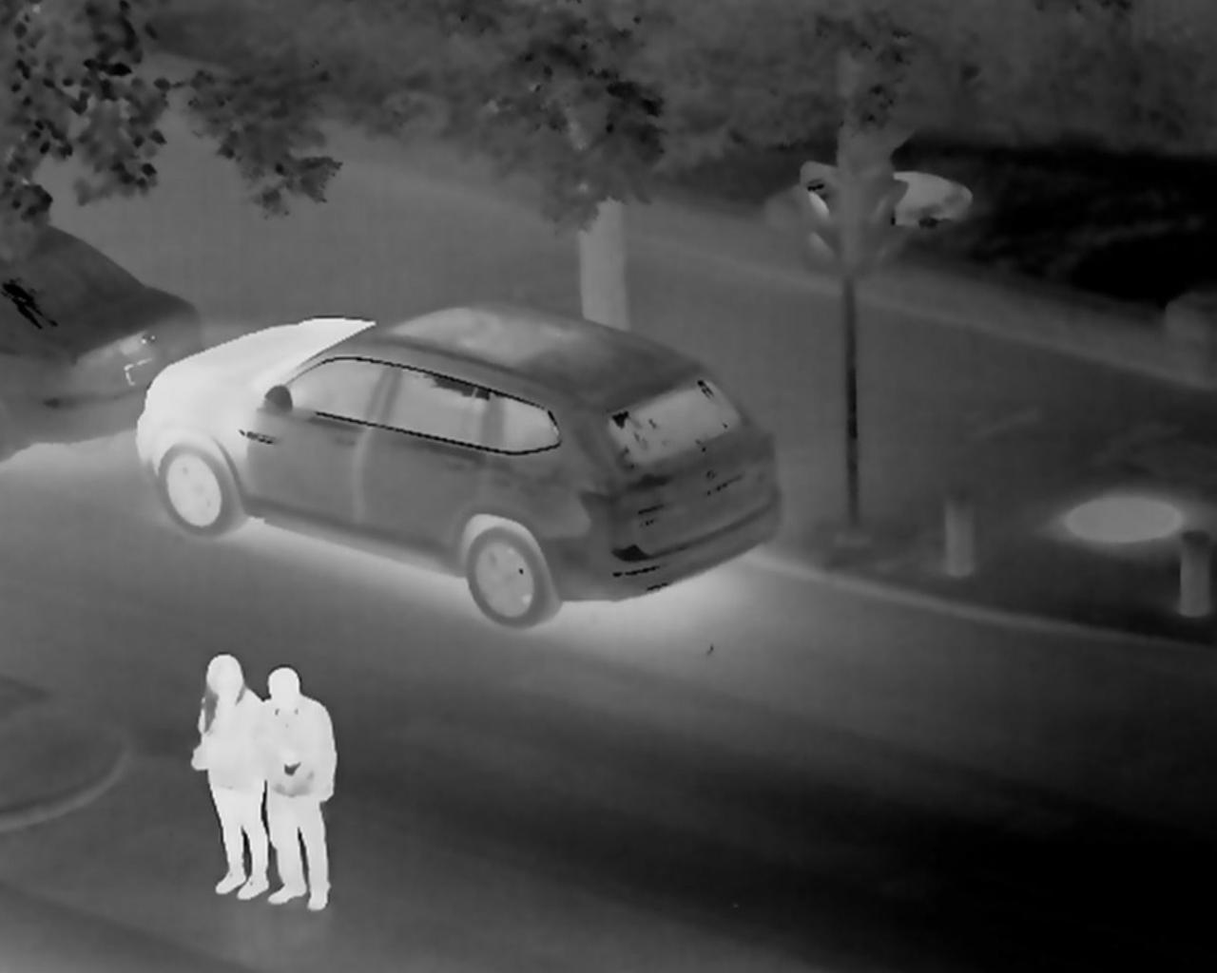person: (250, 664, 338, 910), (191, 649, 271, 901)
